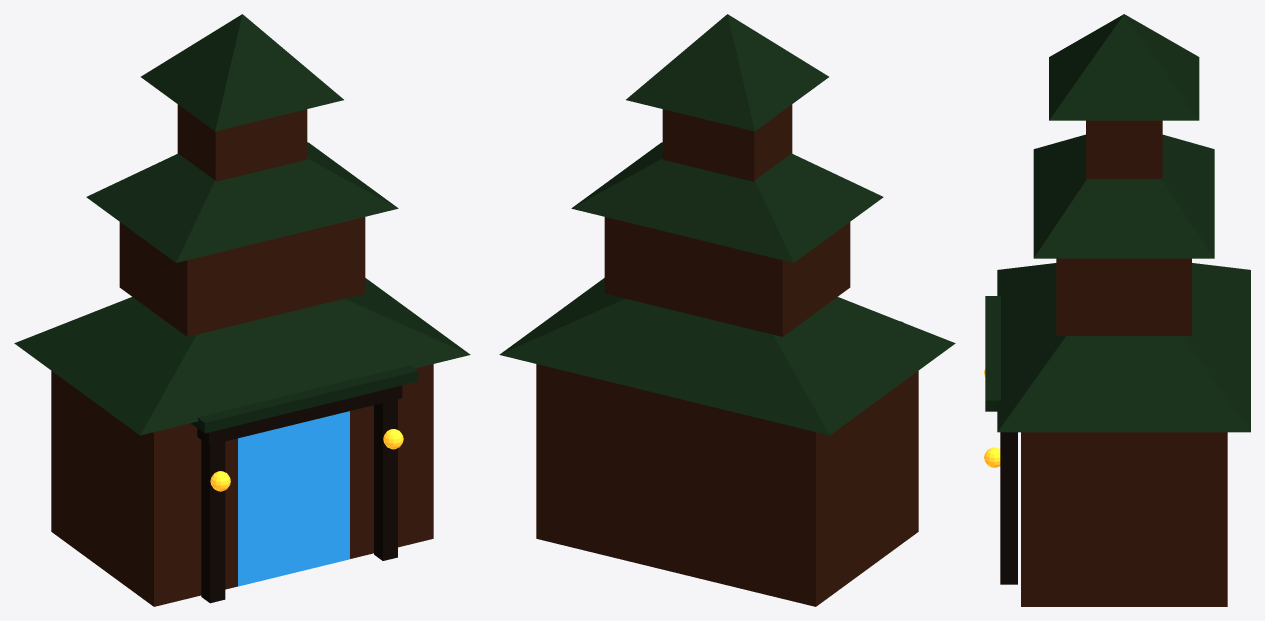
File: lodge.glb
The picture shows the model from 3 angles, left to right: view 1: azimuth 30°, elevation 25°; view 2: azimuth 150°, elevation 25°; view 3: azimuth 270°, elevation 25°; orthographic projection.
Parts seen in each view (by area): view 1: Forest Lodge; view 2: Forest Lodge; view 3: Forest Lodge.
Boxes of the visible parts, bbox=[...] form: Forest Lodge: bbox=[14, 14, 470, 606]; Forest Lodge: bbox=[499, 14, 955, 606]; Forest Lodge: bbox=[984, 14, 1250, 606].
Bounding box in the file's own units: 13.01 × 19.6 × 9.04.
